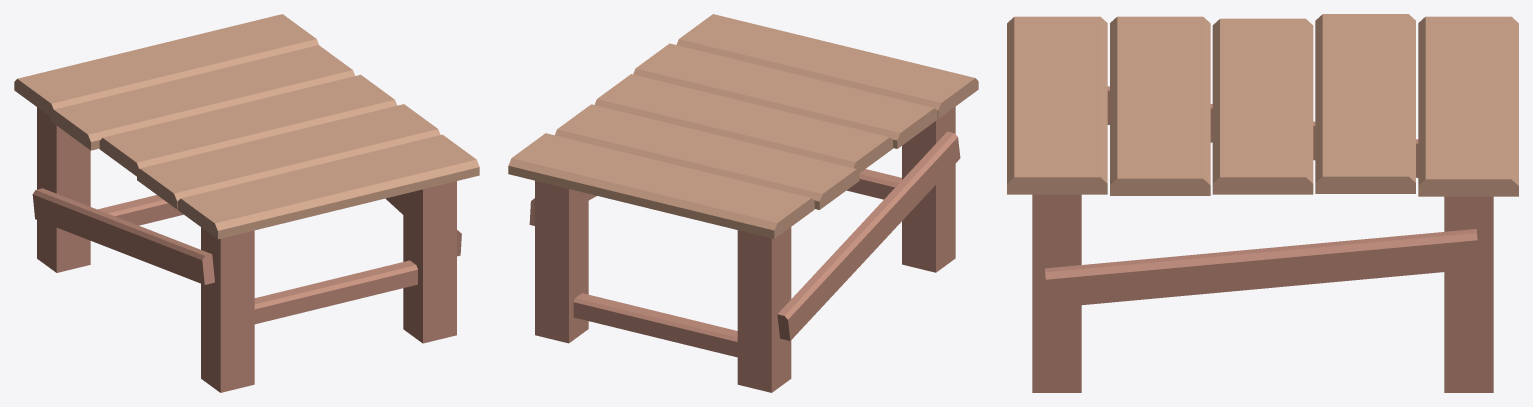
File: Bridge_01.fbx
3 renders of one model, left to right at view 1: azimuth 30°, elevation 25°; view 2: azimuth 150°, elevation 25°; view 3: azimuth 270°, elevation 25°, orthographic. The views are drawn at different scales.
Visible parts, largest first — view 1: Bridge_01; view 2: Bridge_01; view 3: Bridge_01.
Boxes of the visible parts, x1=… form: Bridge_01: x1=14, y1=14, x2=479, y2=392; Bridge_01: x1=508, y1=14, x2=978, y2=392; Bridge_01: x1=1007, y1=14, x2=1518, y2=392.
Bounding box in the file's own units: 15.86 × 10 × 20.75.
